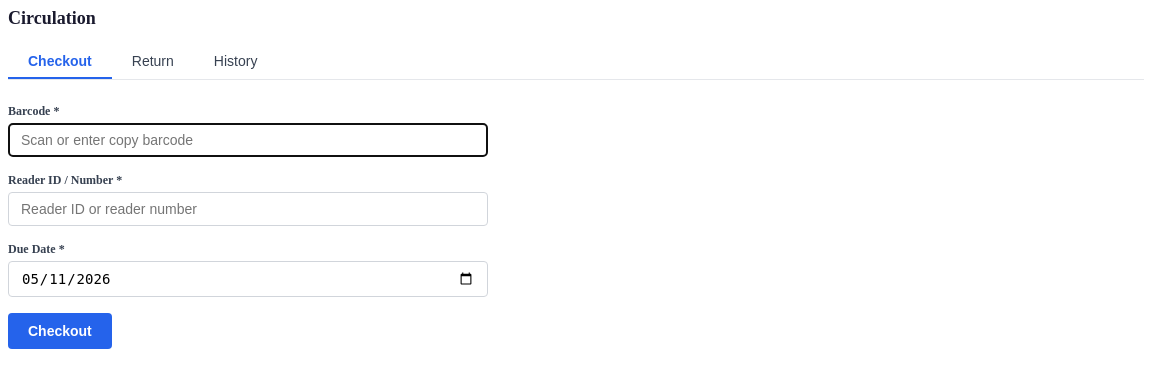
Test: CirculationPage › shows "No circulation events found" when history is empty
Click the button "History": click(236, 62) [194, 45, 277, 79]
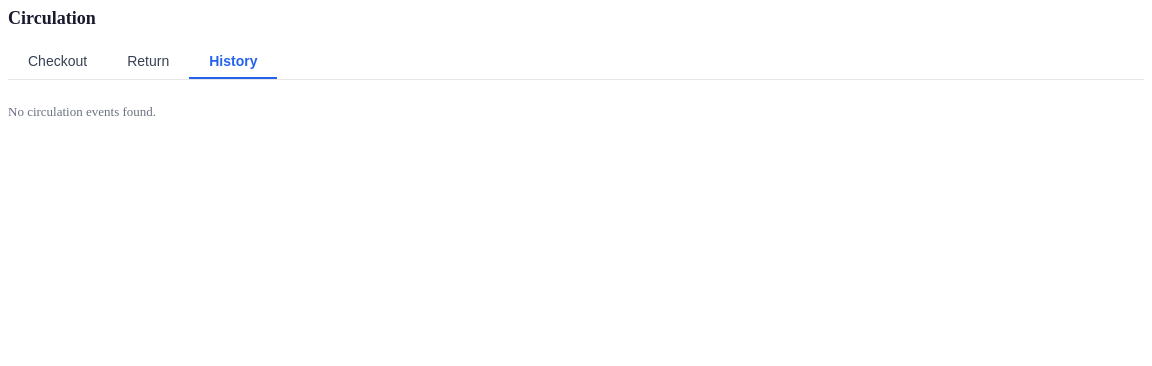
Expected: the text "No circulation events found." is shown, [8, 104, 156, 119]
